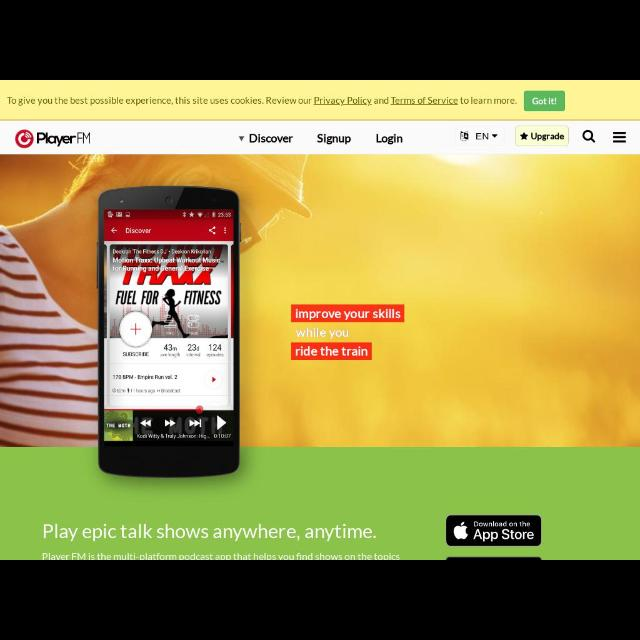backgroundimage: (1, 154, 639, 556)
icon: (580, 128, 598, 144), (612, 132, 630, 146), (454, 524, 468, 540), (458, 129, 468, 141), (518, 130, 528, 140), (236, 135, 246, 141), (492, 133, 498, 137)
iframe: (1, 82, 638, 118)
image: (96, 189, 240, 479), (14, 126, 92, 150)
spinner: (459, 126, 507, 146)
text: (41, 522, 377, 544), (39, 552, 400, 558), (470, 520, 536, 544), (293, 308, 403, 320), (294, 346, 368, 356), (296, 325, 350, 337), (248, 132, 292, 144), (528, 128, 564, 142), (314, 133, 352, 145), (374, 135, 404, 143), (474, 132, 496, 140)
textbutton: (449, 518, 538, 546), (514, 128, 572, 146)
toolbar: (1, 120, 638, 154)
